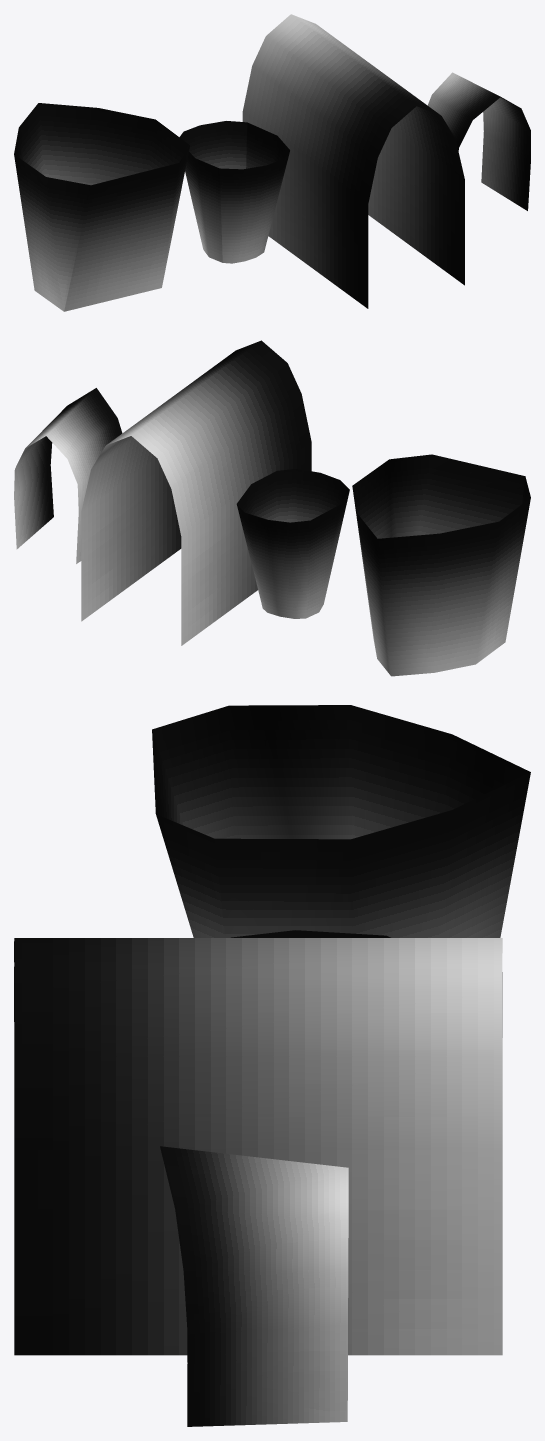
The model's file is guang_xiao_001.FBX.
3 views of the same model, one above another, from view 1: azimuth 30°, elevation 25°; view 2: azimuth 150°, elevation 25°; view 3: azimuth 270°, elevation 25° (orthographic). The views are drawn at different scales.
Parts seen in each view (by area): view 1: guangxiao3, guangxiao1, guangxiao2, guangxiao4; view 2: guangxiao3, guangxiao1, guangxiao2, guangxiao4; view 3: guangxiao3, guangxiao1, guangxiao4.
Part boxes in pixels (box(x1,y1,x2,y2)): guangxiao3: box(242, 14, 464, 308); guangxiao1: box(14, 103, 189, 311); guangxiao2: box(179, 121, 289, 263); guangxiao4: box(427, 72, 530, 210); guangxiao3: box(81, 340, 311, 645); guangxiao1: box(352, 454, 530, 676); guangxiao2: box(236, 469, 349, 618); guangxiao4: box(14, 388, 122, 563); guangxiao3: box(14, 938, 502, 1355); guangxiao1: box(152, 705, 530, 937); guangxiao4: box(160, 1146, 348, 1426).
Bounding box in the file's own units: 2040 × 786 × 990.
